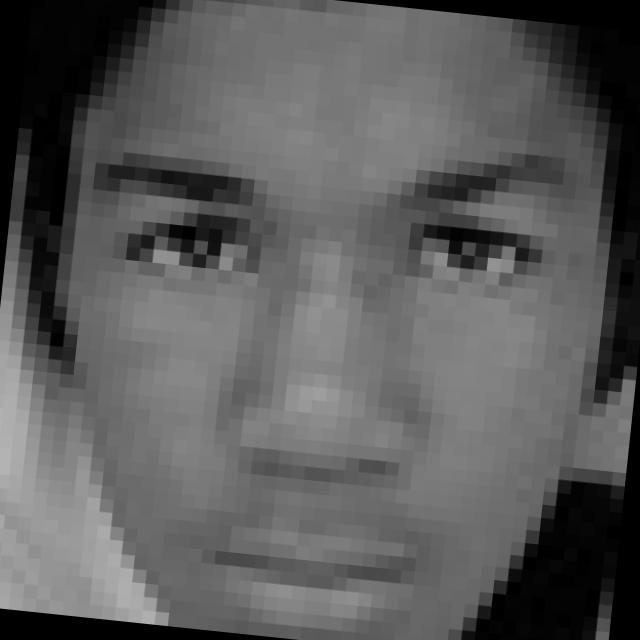neutral: (48, 106, 587, 640)
